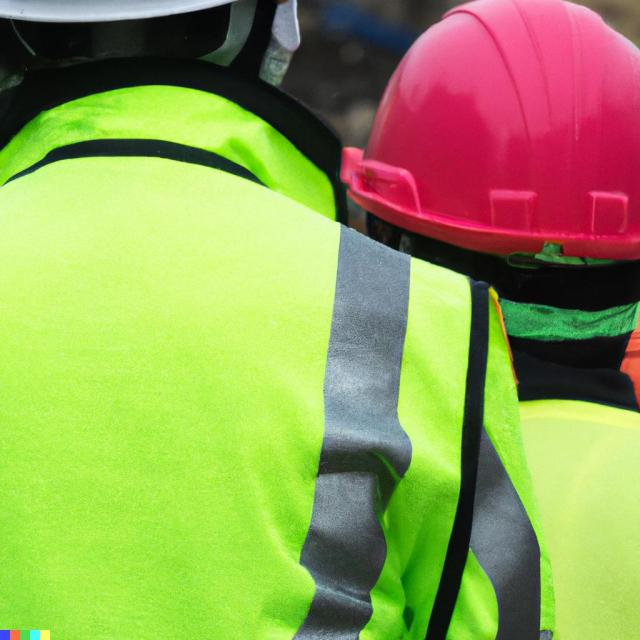Reflective-Jacket: (2, 31, 604, 640)
